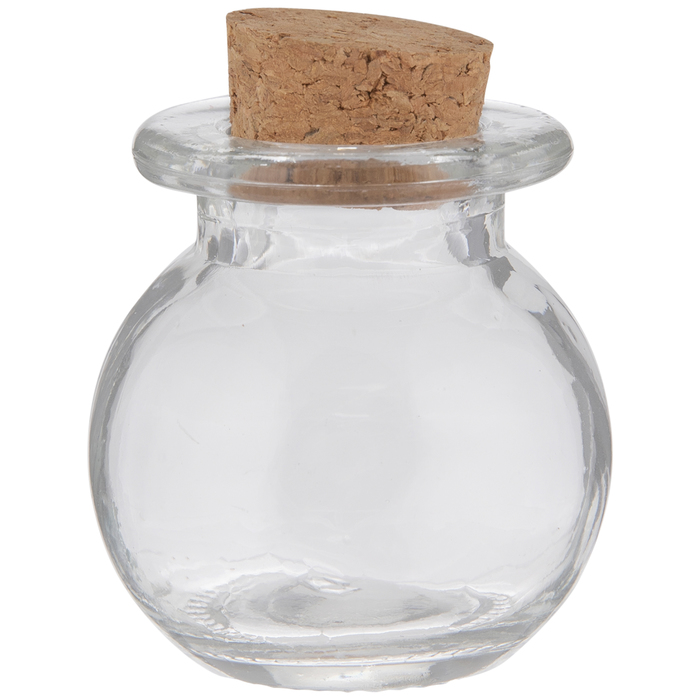glass_bottle: (83, 6, 621, 690)
